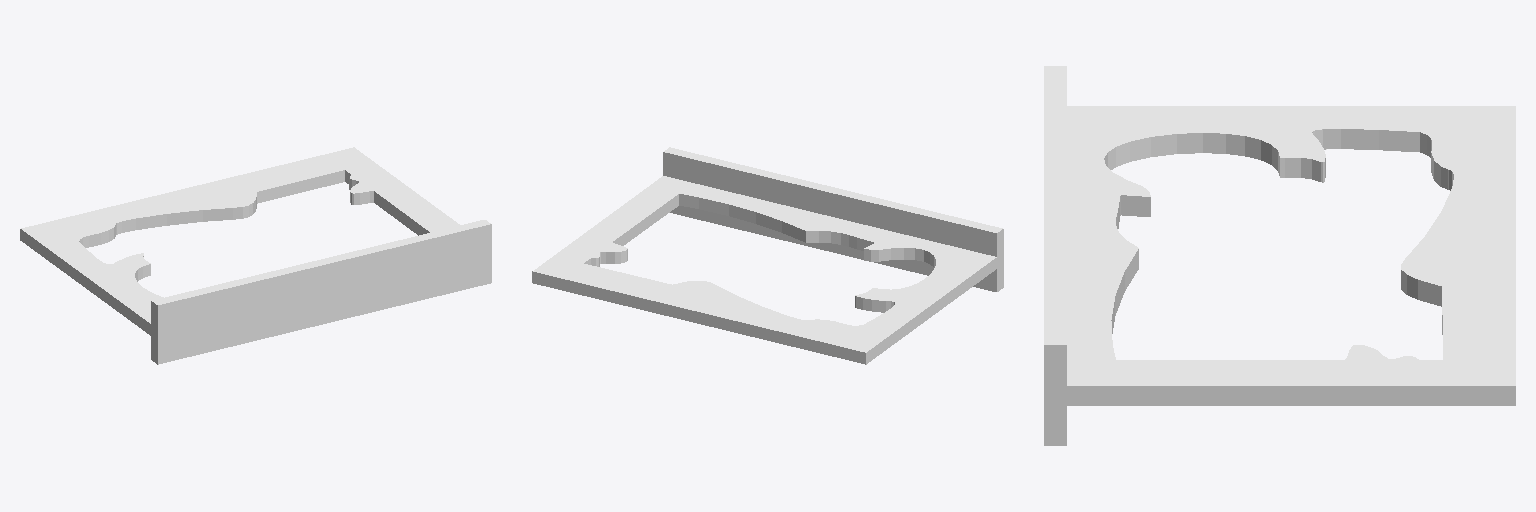
URDF robot description (forest_wall_1):
<?xml version="1.0" encoding="utf-8"?>
<!-- This URDF was automatically created by SolidWorks to URDF Exporter! Originally created by Stephen Brawner (brawner@gmail.com) 
     Commit Version: 1.6.0-4-g7f85cfe  Build Version: 1.6.7995.38578
     For more information, please see http://wiki.ros.org/sw_urdf_exporter -->
<robot
  name="forest_wall_1">
  <link
    name="base_link">
    <inertial>
      <origin
        xyz="0.0162265817664572 -0.321553220794243 -5.33857717591383E-07"
        rpy="0 0 0" />
      <mass
        value="518.159228687865" />
      <inertia
        ixx="286.486271689934"
        ixy="0.468664550644772"
        ixz="-0.000501762399689921"
        iyy="499.819040740251"
        iyz="-2.32059086031774E-05"
        izz="779.441682707198" />
    </inertial>
    <visual>
      <origin
        xyz="0 0 0"
        rpy="0 0 0" />
      <geometry>
        <mesh
          filename="package://emnv_scene/urdf_models/forest_wall_1/meshes/forest_wall_1.STL" />
      </geometry>
      <material
        name="">
        <color
          rgba="1 1 1 1" />
      </material>
    </visual>
    <collision>
      <origin
        xyz="0 0 0"
        rpy="0 0 0" />
      <geometry>
        <mesh
          filename="package://emnv_scene/urdf_models/forest_wall_1/meshes/forest_wall_1.STL" />
      </geometry>
    </collision>
  </link>
</robot>

--- Facts derived from the render (not from the file) ---
The picture shows the robot from 3 angles, left to right: view 1: azimuth 30°, elevation 25°; view 2: azimuth 150°, elevation 25°; view 3: azimuth 270°, elevation 25°; orthographic projection.
Model forest_wall_1 with 1 links and 0 joints (none), rooted at base_link, posed all joints at 0.
Visible links, largest first — view 1: base_link; view 2: base_link; view 3: base_link.
Boxes of the visible links, <box> form: base_link: <box>20,147,491,364</box>; base_link: <box>532,147,1003,364</box>; base_link: <box>1044,66,1515,445</box>.
Size in the robot's own frame: 2.95 by 2.1 by 0.5 metres.
1 mesh visuals loaded from 1 distinct referenced files (1 binary STL).
